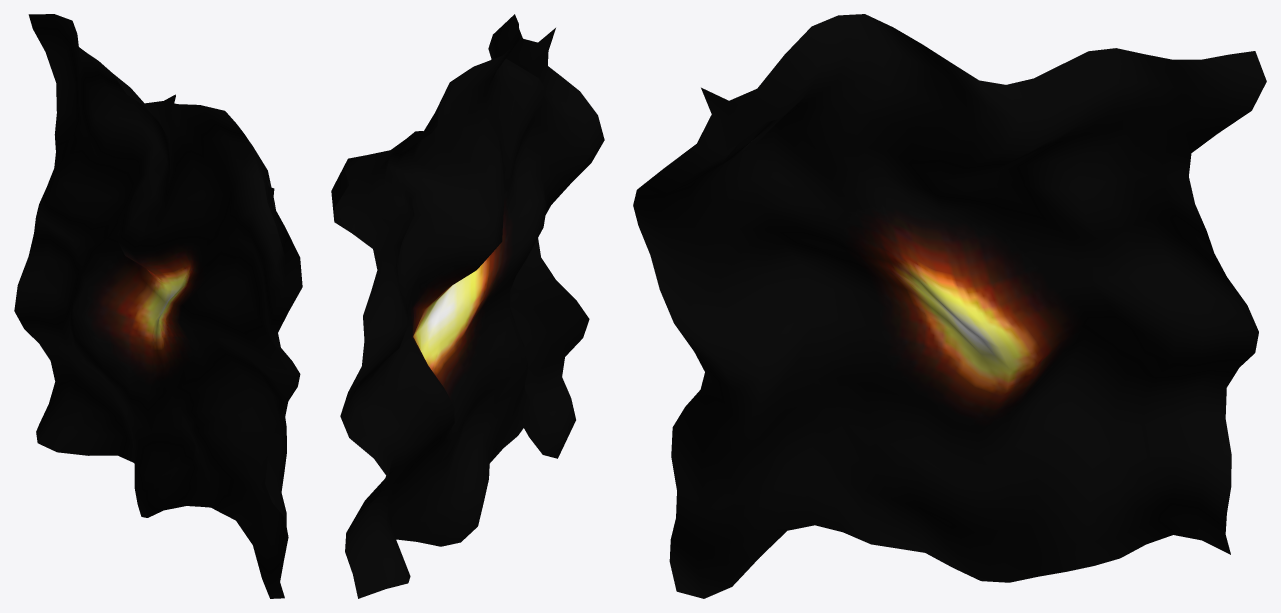
3 views of the same model, side by side, from view 1: azimuth 30°, elevation 25°; view 2: azimuth 150°, elevation 25°; view 3: azimuth 270°, elevation 25° (orthographic). The views are drawn at different scales.
Bounding box in the file's own units: 0.4166 × 2.2 × 2.2.
Materials: 1 (1 with a texture image).
